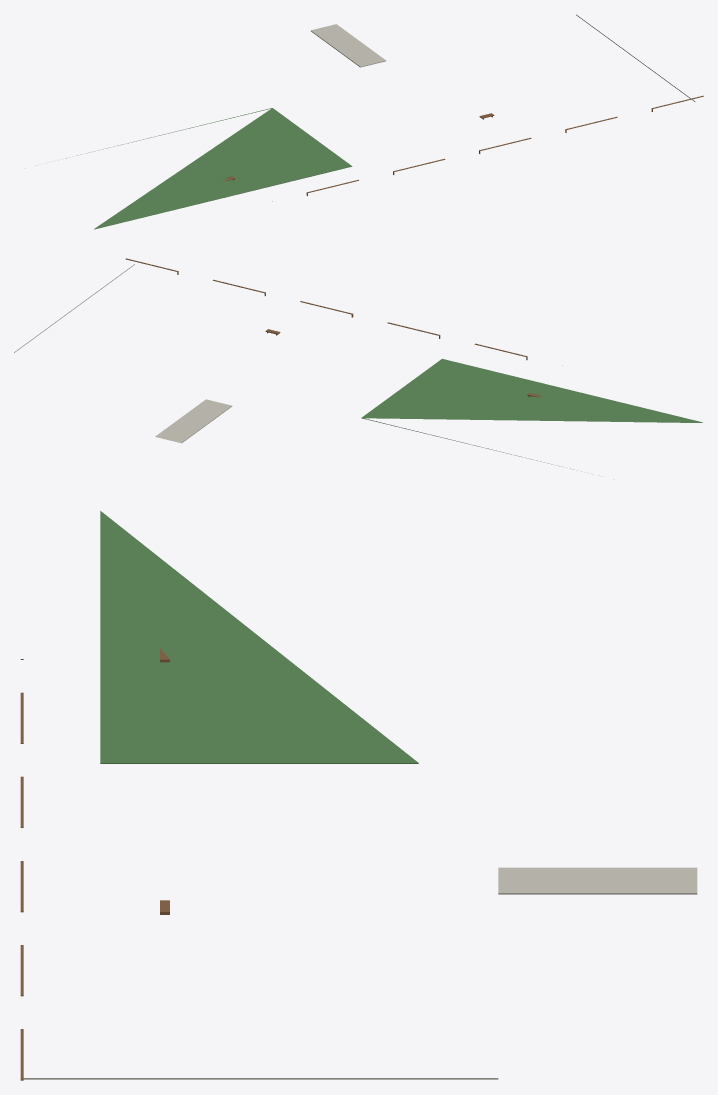
The model's file is cell_2_-1_lod1.gltf.
The picture shows the model from 3 angles, top to bottom: view 1: azimuth 30°, elevation 25°; view 2: azimuth 150°, elevation 25°; view 3: azimuth 270°, elevation 25°; orthographic projection. The views are drawn at different scales.
Parts seen in each view (by area): view 1: VI_PUBLIC_WATERFRONT_VIEW_TERRACE; view 2: VI_PUBLIC_WATERFRONT_VIEW_TERRACE; view 3: VI_PUBLIC_WATERFRONT_VIEW_TERRACE.
Part boxes in pixels (x1,y1,x2,y2): VI_PUBLIC_WATERFRONT_VIEW_TERRACE: [65, 14, 703, 229]; VI_PUBLIC_WATERFRONT_VIEW_TERRACE: [14, 258, 702, 469]; VI_PUBLIC_WATERFRONT_VIEW_TERRACE: [20, 511, 697, 1080].
Size of the model in its own units: 137 by 0.9366 by 68.
